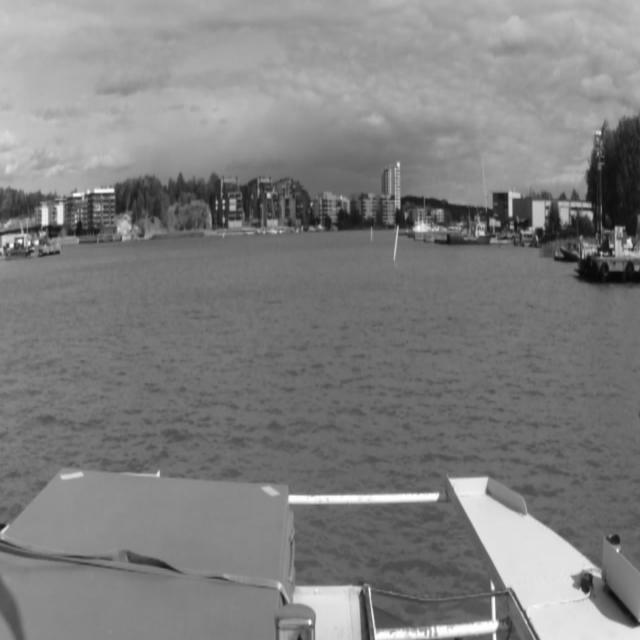buoy: (392, 225, 401, 263), (369, 227, 374, 245), (394, 223, 396, 235)
ship: (446, 208, 492, 247)
